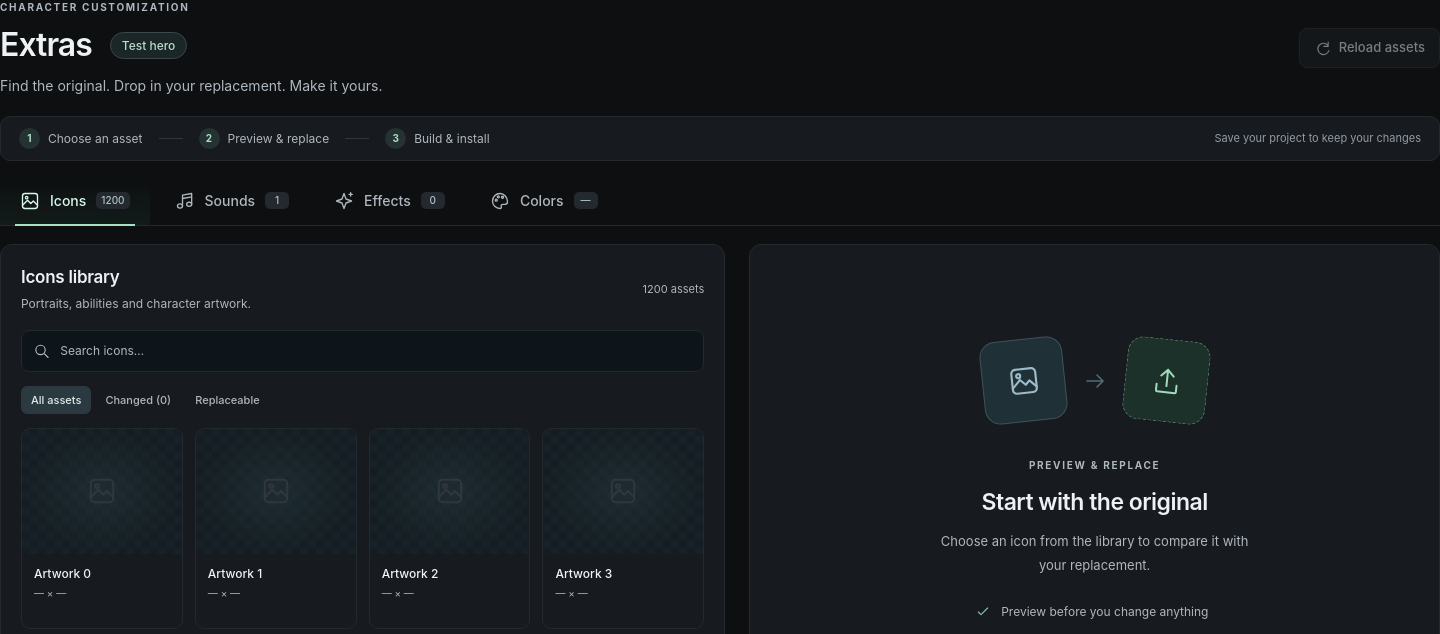
Test: Extras workspace › bounds large catalogs, filters replacements and supports keyboard category navigation
Type "Artwork 1199" into the field labelled "Search icons" at [376, 351], box [60, 331, 692, 371]
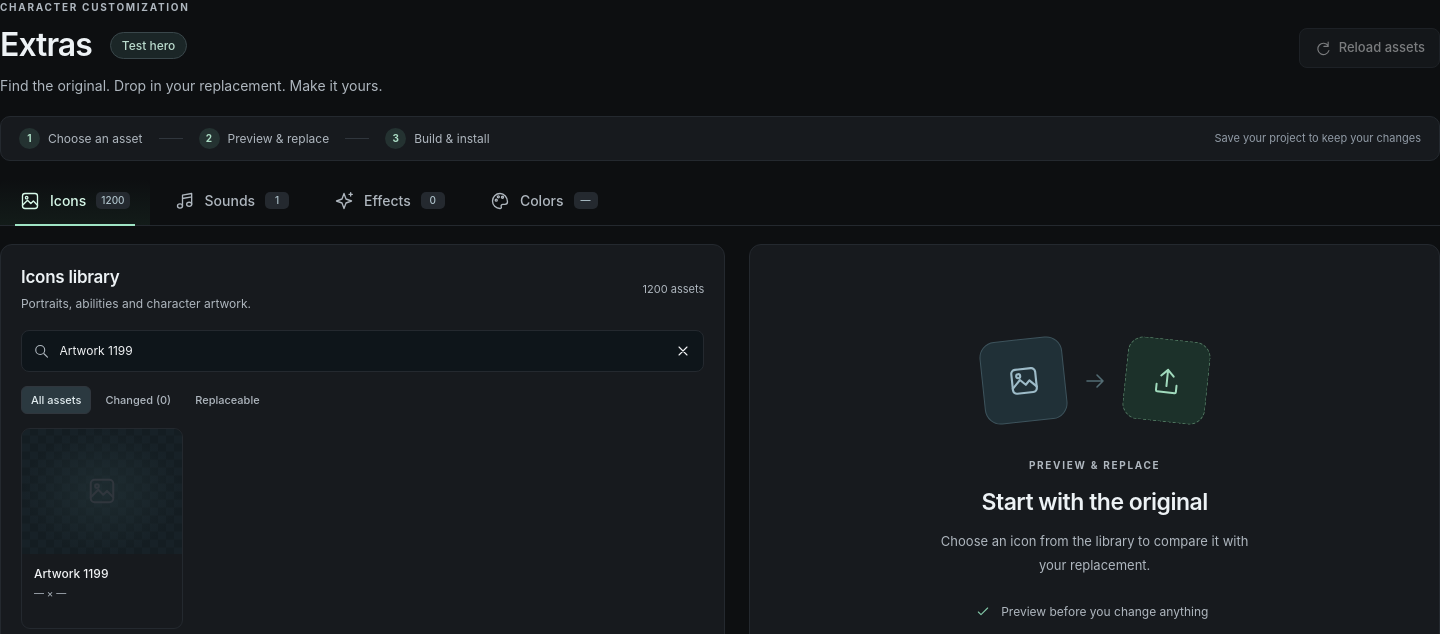
Press ArrowRight in the tab "Icons 1200", box [0, 179, 150, 225]
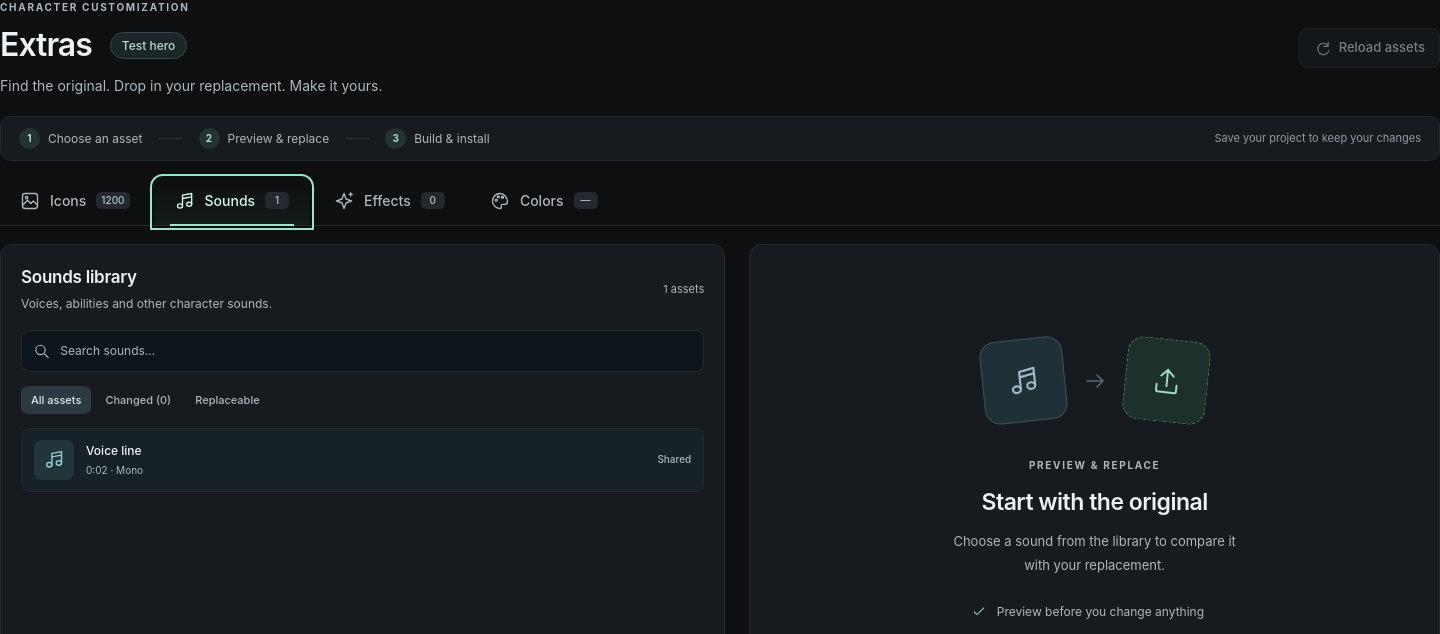
Expected: the tab "Sounds 1" is selected, [154, 179, 309, 225]
Click the button "Changed (0)" at [138, 400], box [95, 386, 181, 414]
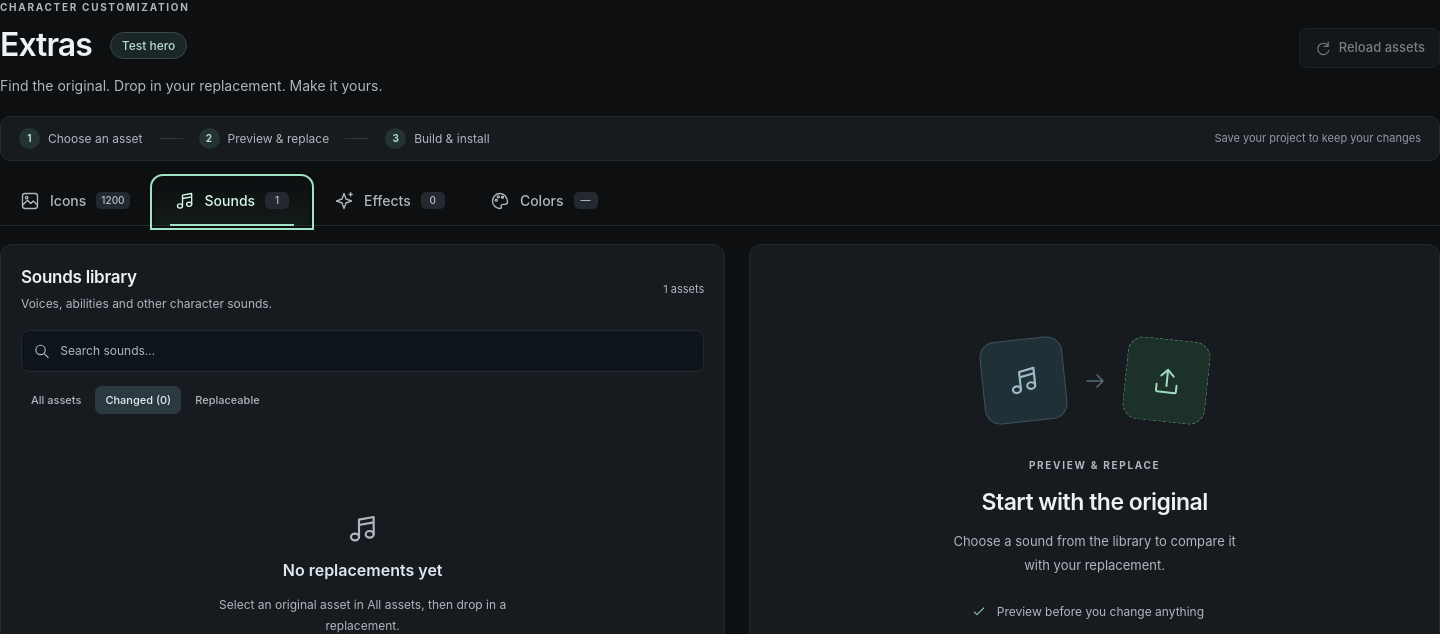
Expected: the heading "No replacements yet" is shown, [283, 558, 443, 582]
